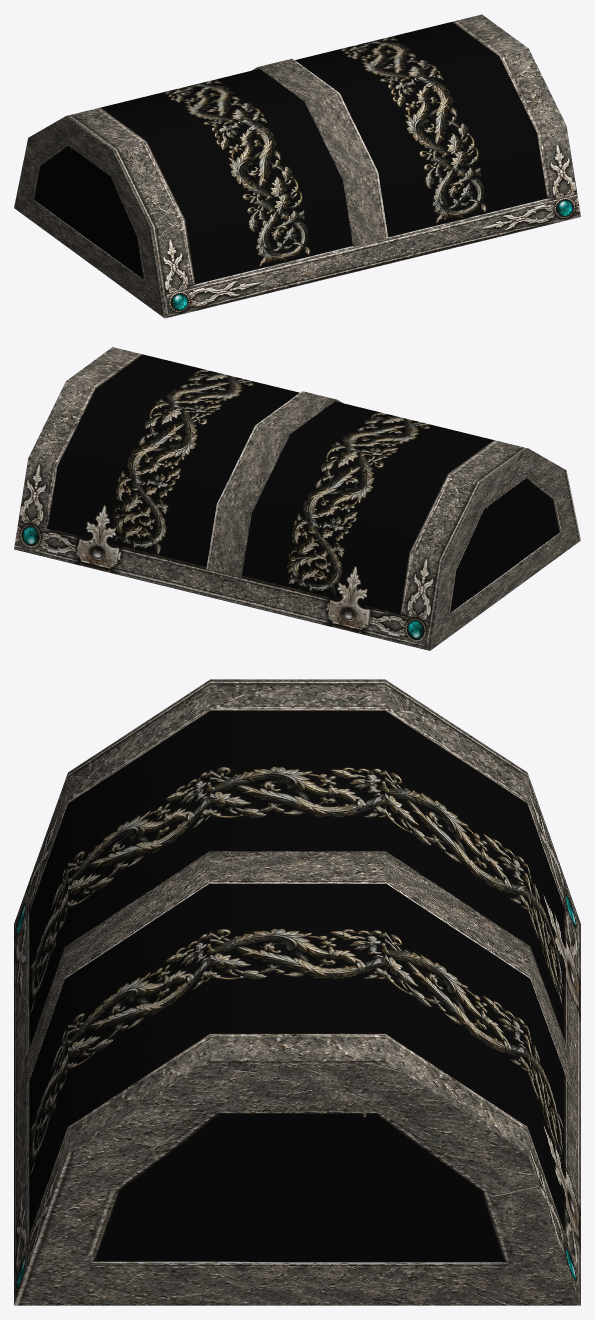
The model's file is mm9_deco_blackchest_lid.glb.
3 views of the same model, one above another, from view 1: azimuth 30°, elevation 25°; view 2: azimuth 150°, elevation 25°; view 3: azimuth 270°, elevation 25° (orthographic). The views are drawn at different scales.
Visible parts, largest first — view 1: Blackchest; view 2: Blackchest; view 3: Blackchest.
Boxes of the visible parts, left/top/right/bottom form: Blackchest: left=14, top=14, right=580, bottom=318; Blackchest: left=14, top=347, right=580, bottom=650; Blackchest: left=14, top=679, right=580, bottom=1305.
Bounding box in the file's own units: 1 × 0.3039 × 0.6291.
Materials: 1 (1 with a texture image).
